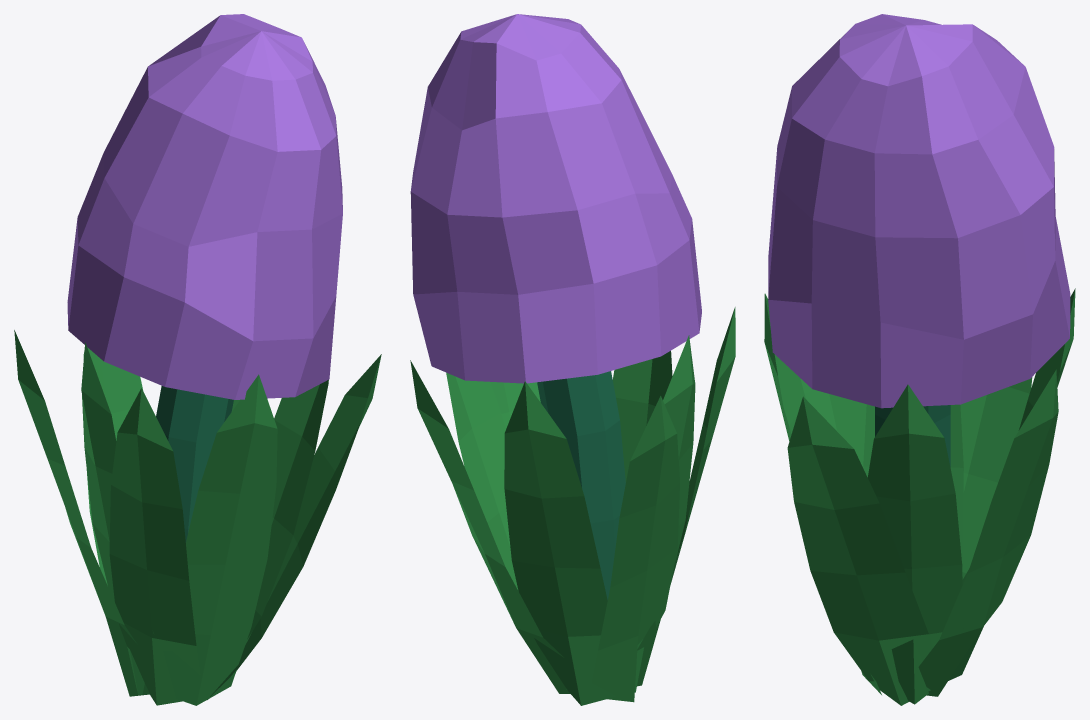
The picture shows the model from 3 angles, left to right: view 1: azimuth 30°, elevation 25°; view 2: azimuth 150°, elevation 25°; view 3: azimuth 270°, elevation 25°; orthographic projection. The views are drawn at different scales.
Parts seen in each view (by area): view 1: sphere, plane (×7), cylinder; view 2: sphere, plane (×8), cylinder; view 3: sphere, plane (×8), cylinder.
Boxes of the visible parts, <box> form: sphere: <box>67,14,342,399</box>; plane (×7): <box>14,330,381,705</box>; cylinder: <box>156,386,233,542</box>; sphere: <box>410,14,701,383</box>; plane (×8): <box>410,307,735,705</box>; cylinder: <box>537,371,625,599</box>; sphere: <box>768,14,1070,408</box>; plane (×8): <box>764,288,1075,705</box>; cylinder: <box>875,405,950,467</box>.
Bounding box in the file's own units: 0.4254 × 0.9614 × 0.386.
1 material, 1 textured.
